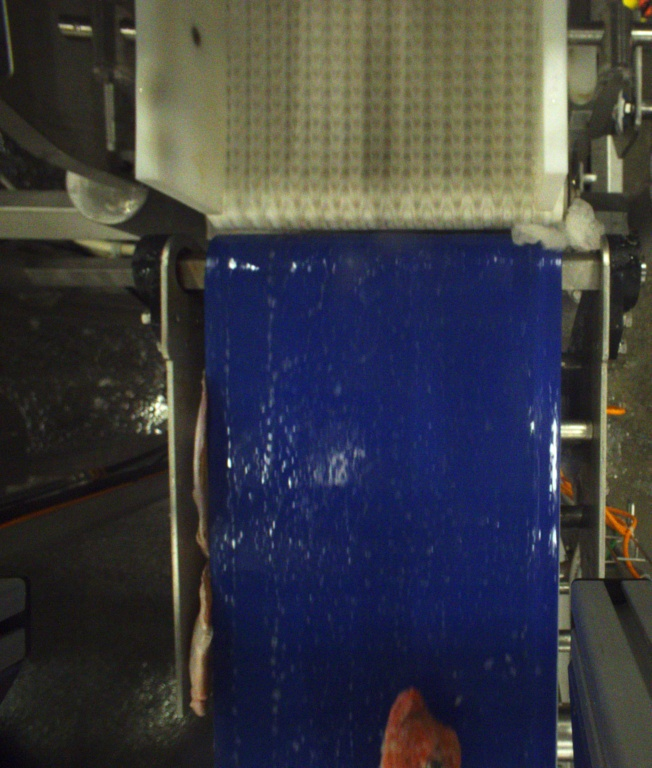GUU: (385, 684, 459, 768)
